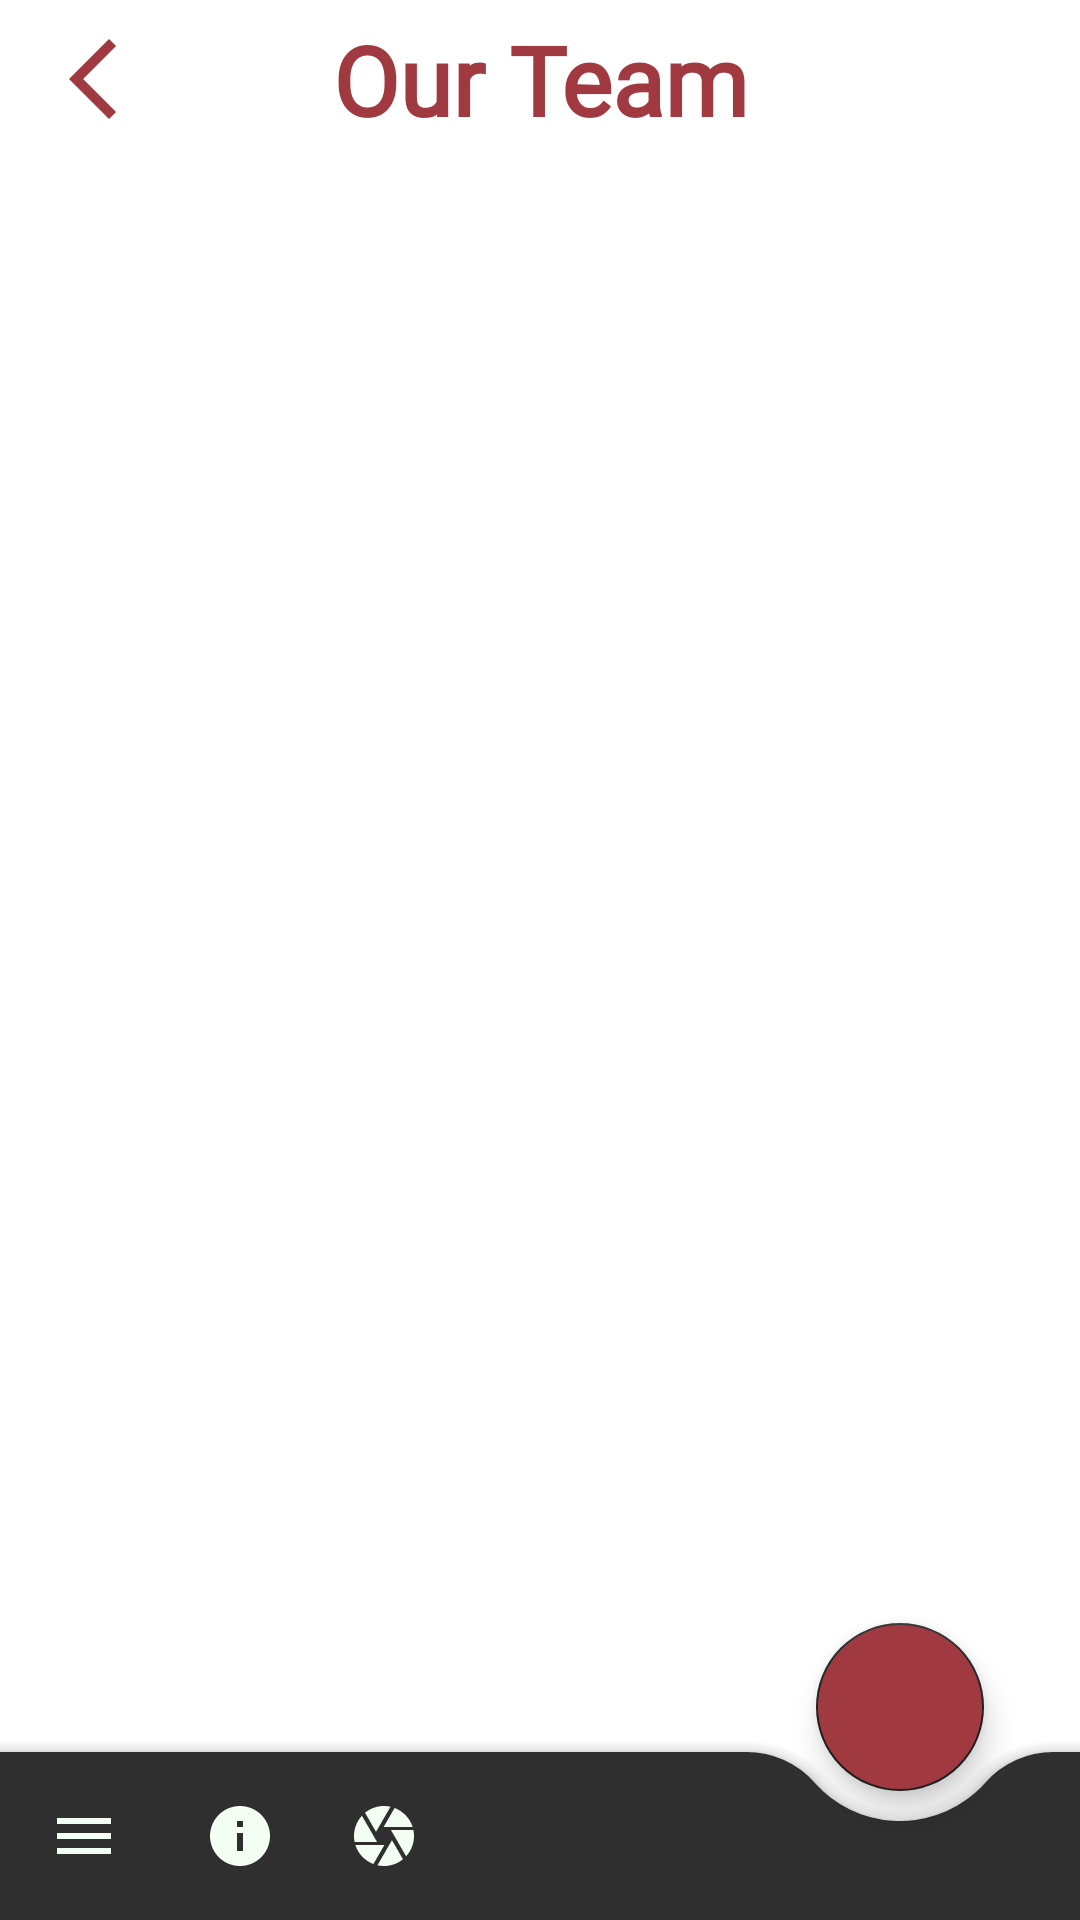

Screen size 1080 x 1920. Icon name, then its center in pixels as point (x, y):
arrow back: point (92, 79)
